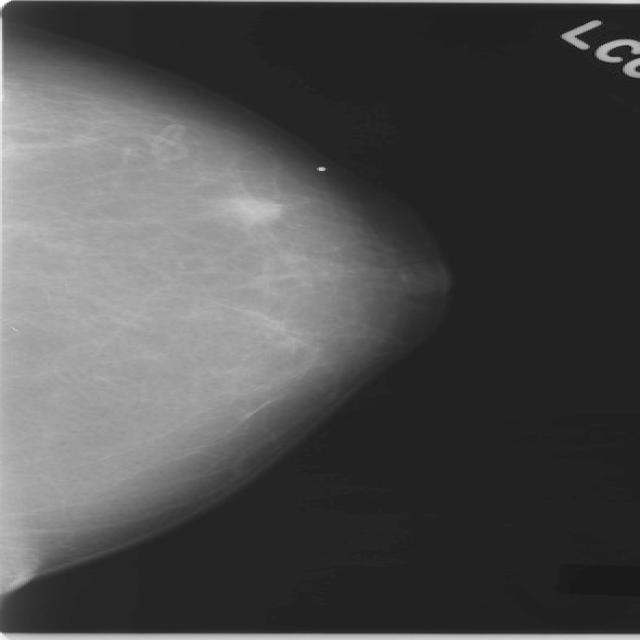tumour: (219, 193, 282, 222)
